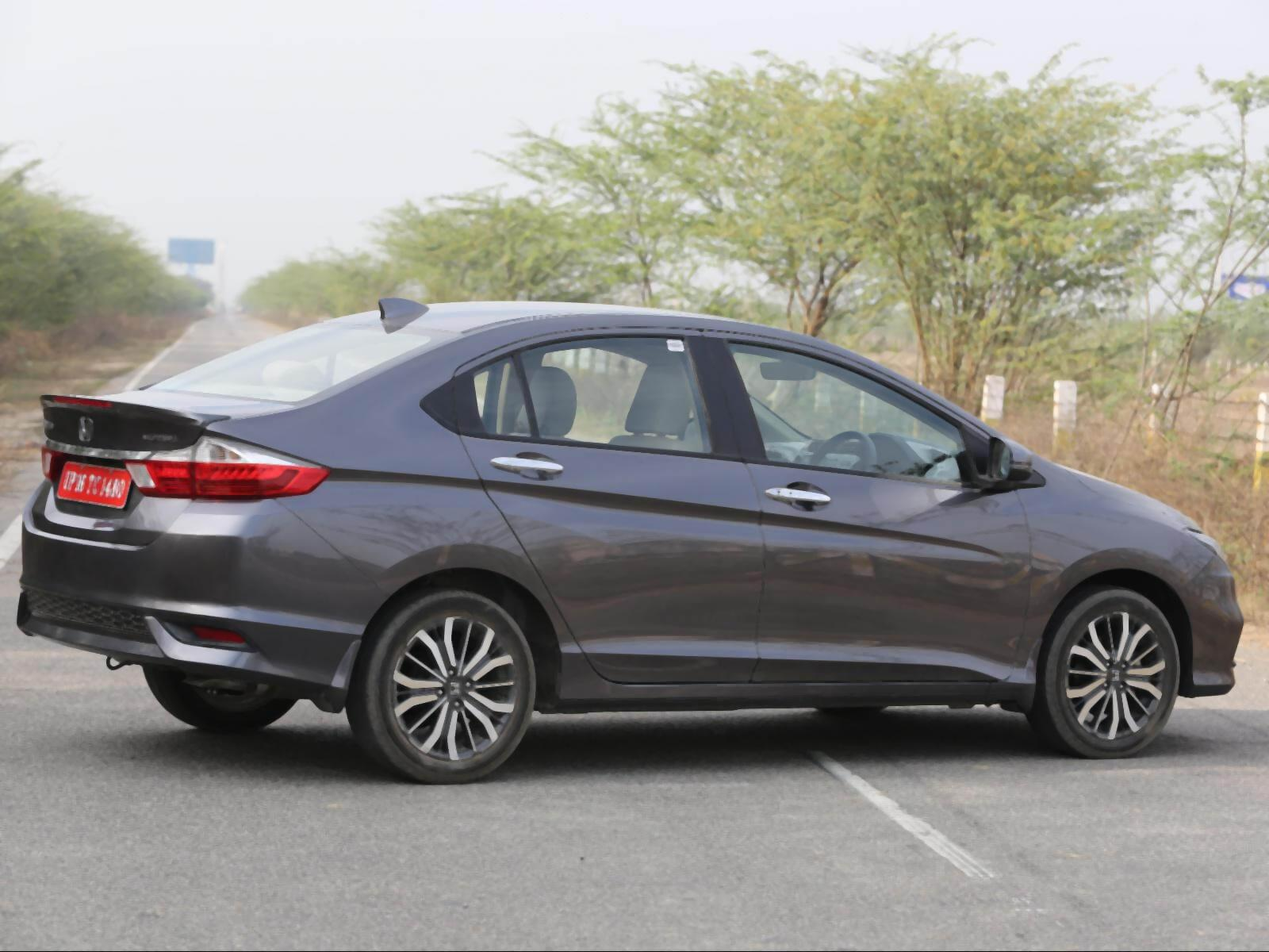Car boot: (21, 387, 311, 552)
Driver-s door - -F-R-: (693, 319, 1033, 691)
Fender - -F-R-: (1000, 433, 1215, 698)
Fender - -R-R-: (198, 329, 558, 657)
Front bumper: (1150, 538, 1266, 703)
Passenger-s door - -R-R-: (447, 316, 774, 688)
Rear bumper: (11, 473, 388, 700)
Rear light - -R-: (124, 433, 331, 504)
Side bumper - -R-: (538, 652, 1057, 734)
Side mirror - -R-: (963, 432, 1048, 501)
